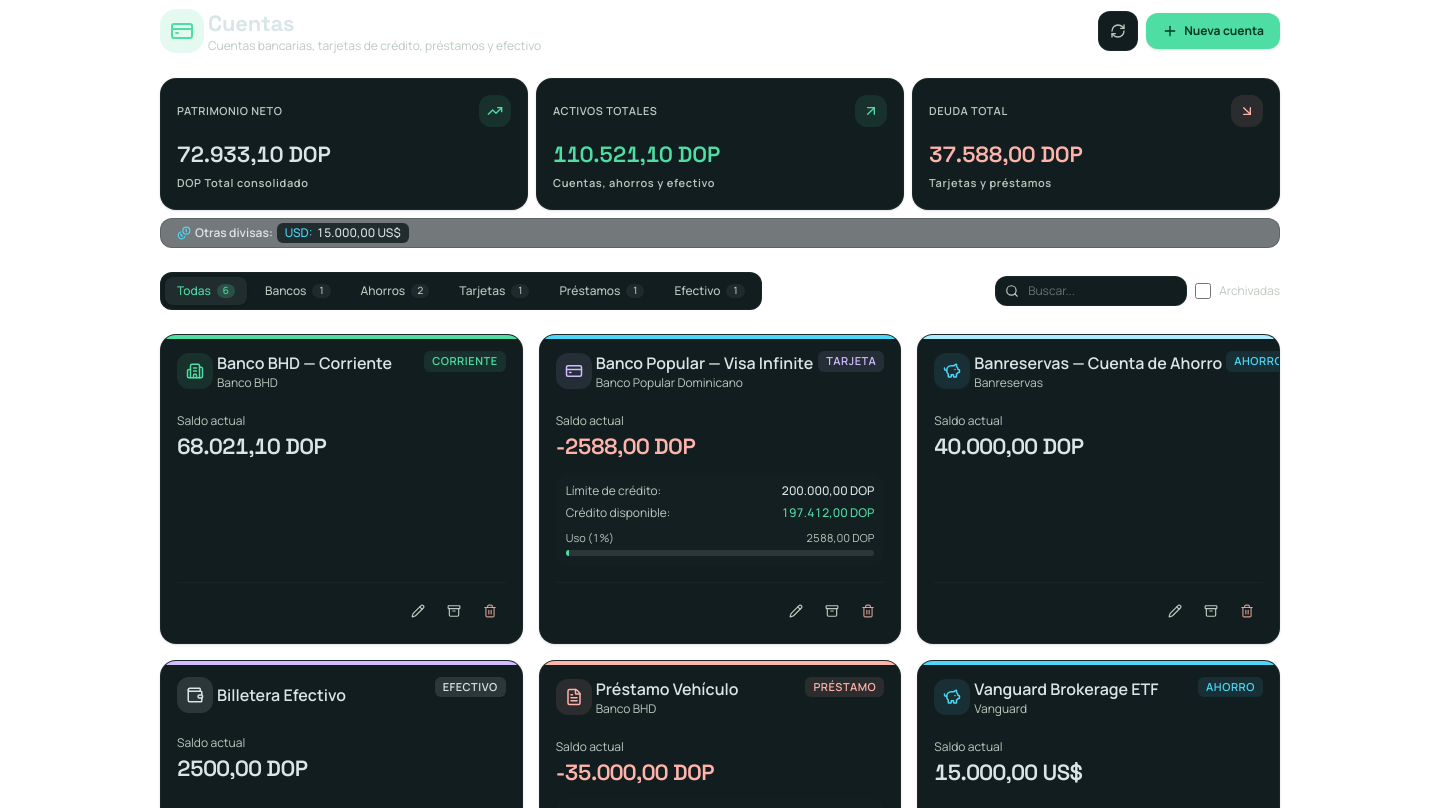
Test case: AccountsPage Integration › toggles archived accounts visibility
Expected: the heading "Banco BHD — Corriente" is shown, top-left (217, 351), bottom-right (392, 375)
Click archive button on first card
Step 1. Click the button named "archivar cuenta" below "68.021,10 DOP" → x=454, y=611, box top-left (438, 595), bottom-right (470, 627)
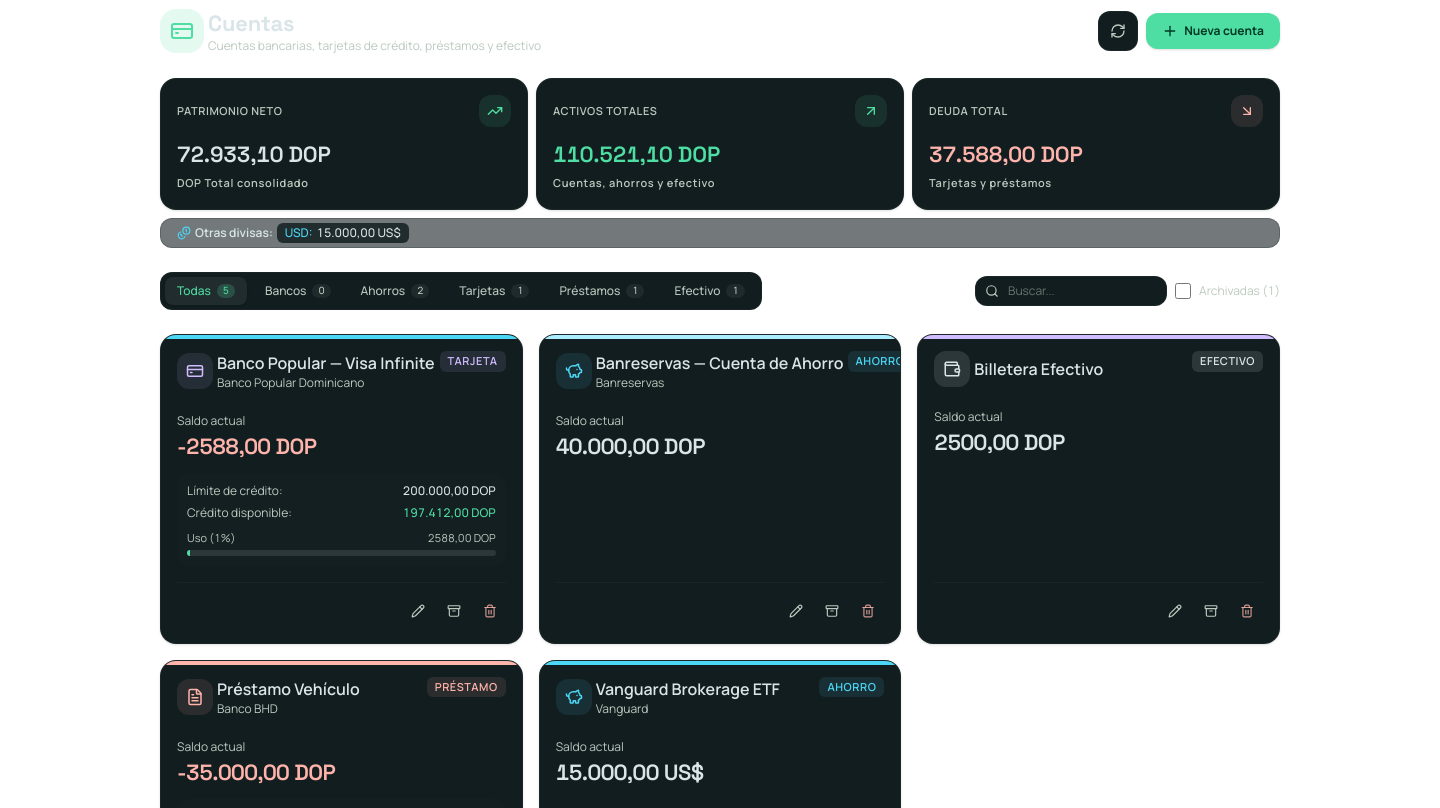
Expected: the heading "Banco BHD — Corriente" is gone
Toggle "Mostrar archivadas"
Step 2. Click the checkbox named "mostrar archivadas" → x=1183, y=291, box top-left (1175, 283), bottom-right (1191, 299)
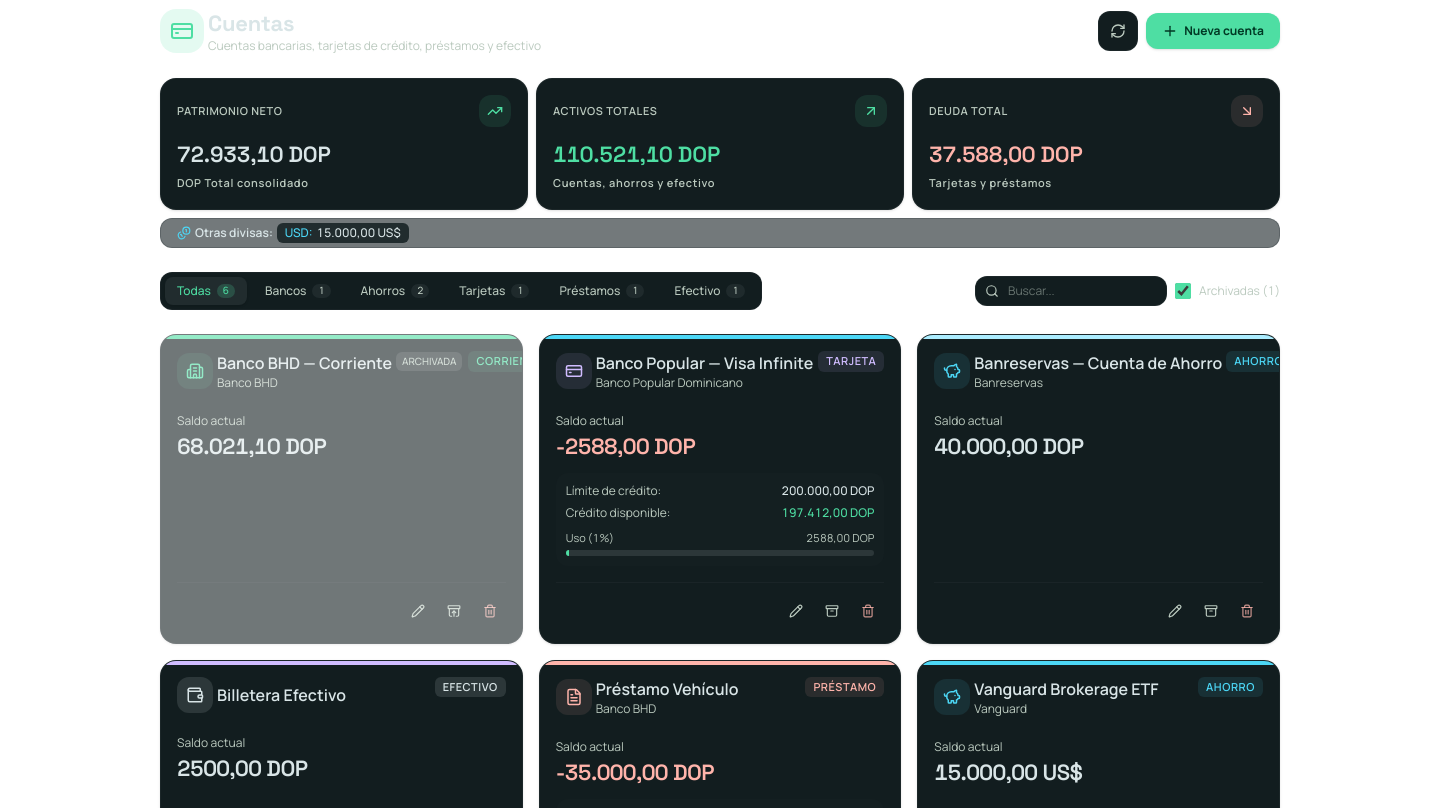
Expected: the heading "Banco BHD — Corriente" is shown, top-left (217, 351), bottom-right (392, 375)
Expected: the text "Archivada" is shown, top-left (396, 352), bottom-right (462, 371)
